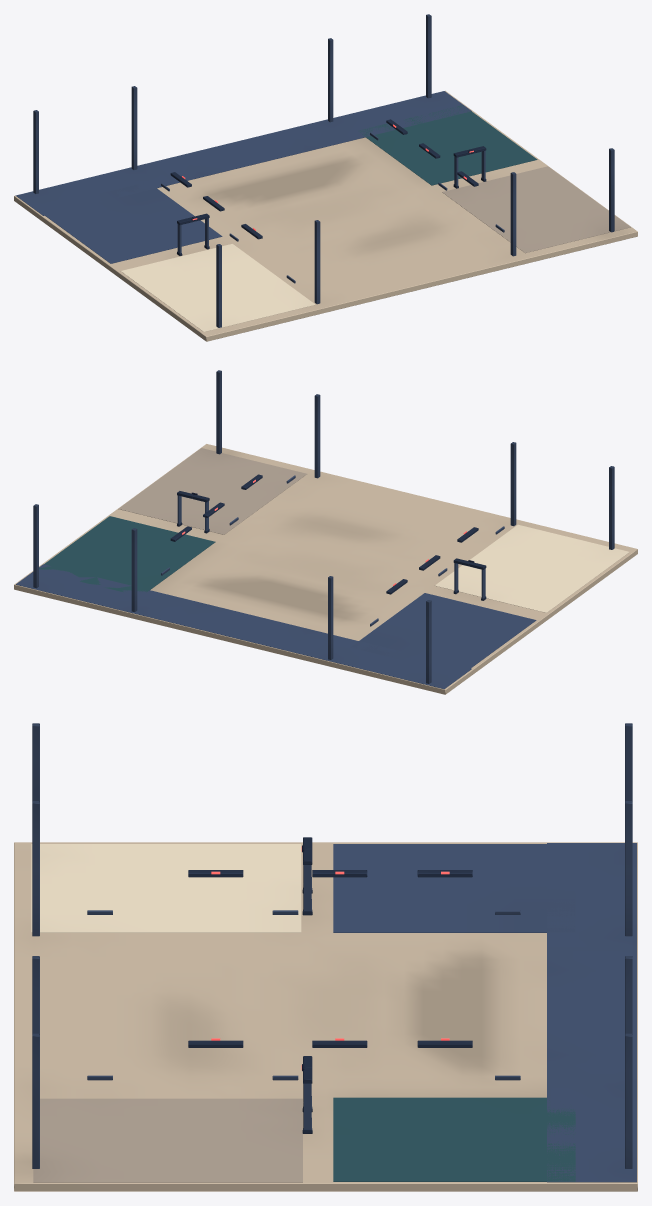
Rendered from shell.glb.
3 views of the same model, one above another, from view 1: azimuth 30°, elevation 25°; view 2: azimuth 150°, elevation 25°; view 3: azimuth 270°, elevation 25° (orthographic). The views are drawn at different scales.
Visible parts, largest first — view 1: shell; view 2: shell; view 3: shell.
Part boxes in pixels (bbox=[...]): shell: bbox=[14, 14, 637, 341]; shell: bbox=[14, 370, 637, 694]; shell: bbox=[14, 723, 637, 1191].
Bounding box in the file's own units: 44 × 8.5 × 34.
